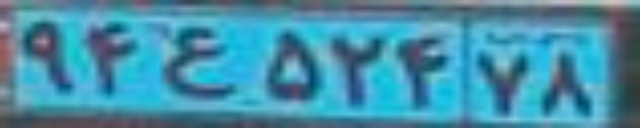2: (327, 34, 382, 107)
4: (393, 36, 452, 110), (82, 20, 137, 98)
5: (262, 30, 321, 102)
7: (471, 46, 529, 117)
8: (536, 47, 596, 119)
9: (21, 20, 74, 96)
ain: (161, 26, 237, 99)
